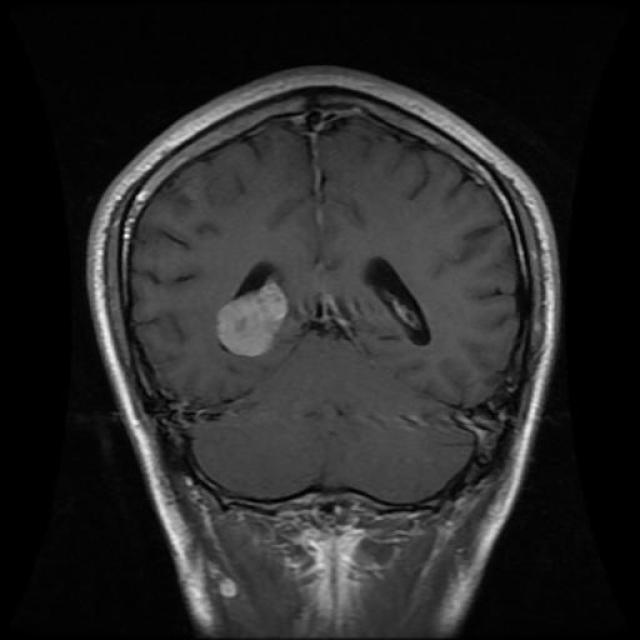meningioma: (219, 282, 289, 359)
